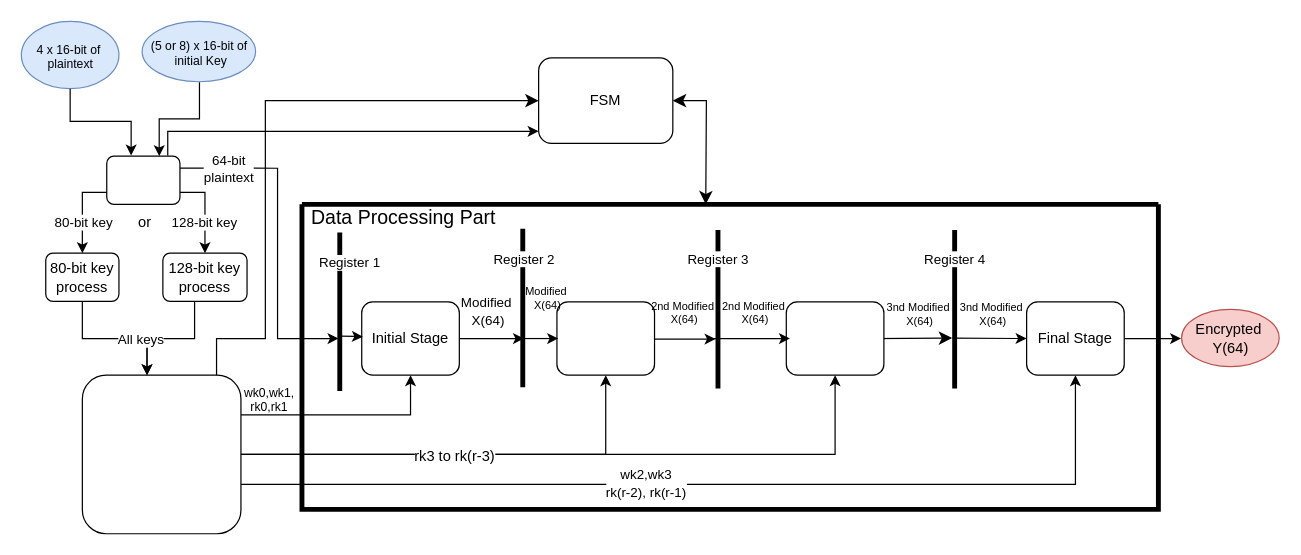
Some shapes in this 1301 by 555 pixel diagram are drawn without their labels. The shapes that lost their labels are listed below. From the top down, each one's centre as x and y in pixels, then its label:
At pixel 143 179: "Input Controller".
At pixel 605 338: "Iterative Stage First".
At pixel 834 338: "Iterative Stage Second".
At pixel 161 454: "Key Register".
